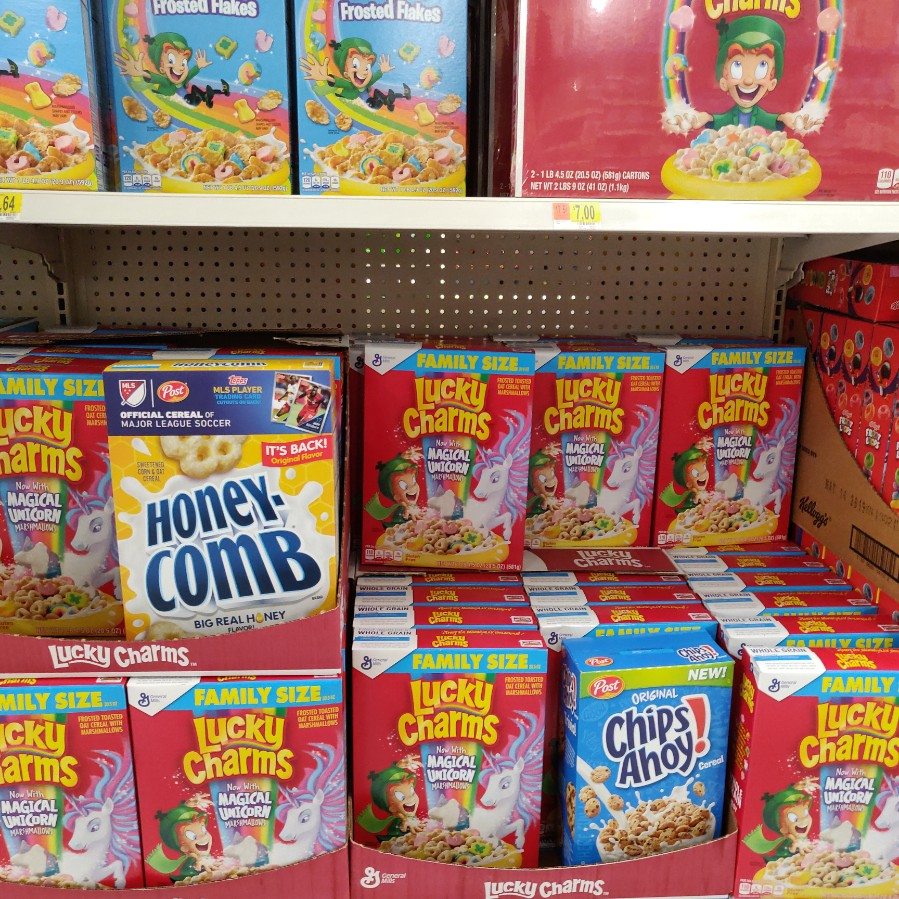Chips Ahoys-565717529: (560, 645, 730, 857)
Honey Comb- 009288857: (99, 367, 342, 626)
